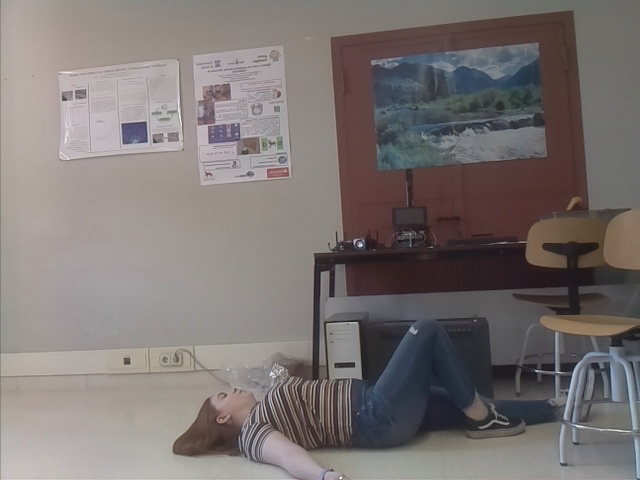fall: (148, 315, 581, 480)
